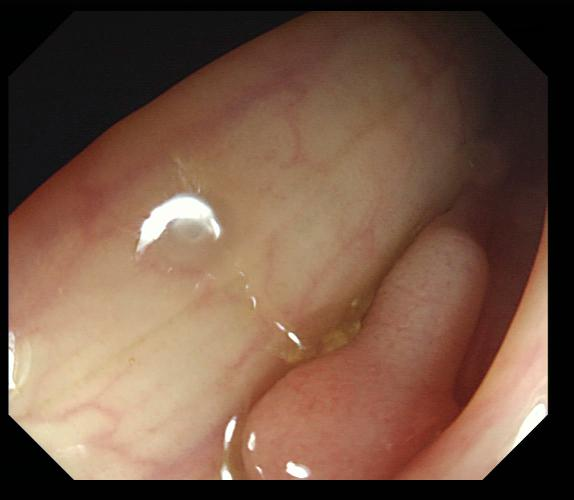polyp: (242, 227, 495, 480)
